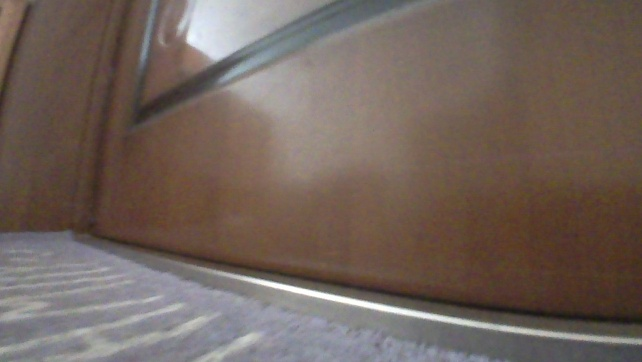blanket: (0, 224, 511, 361)
